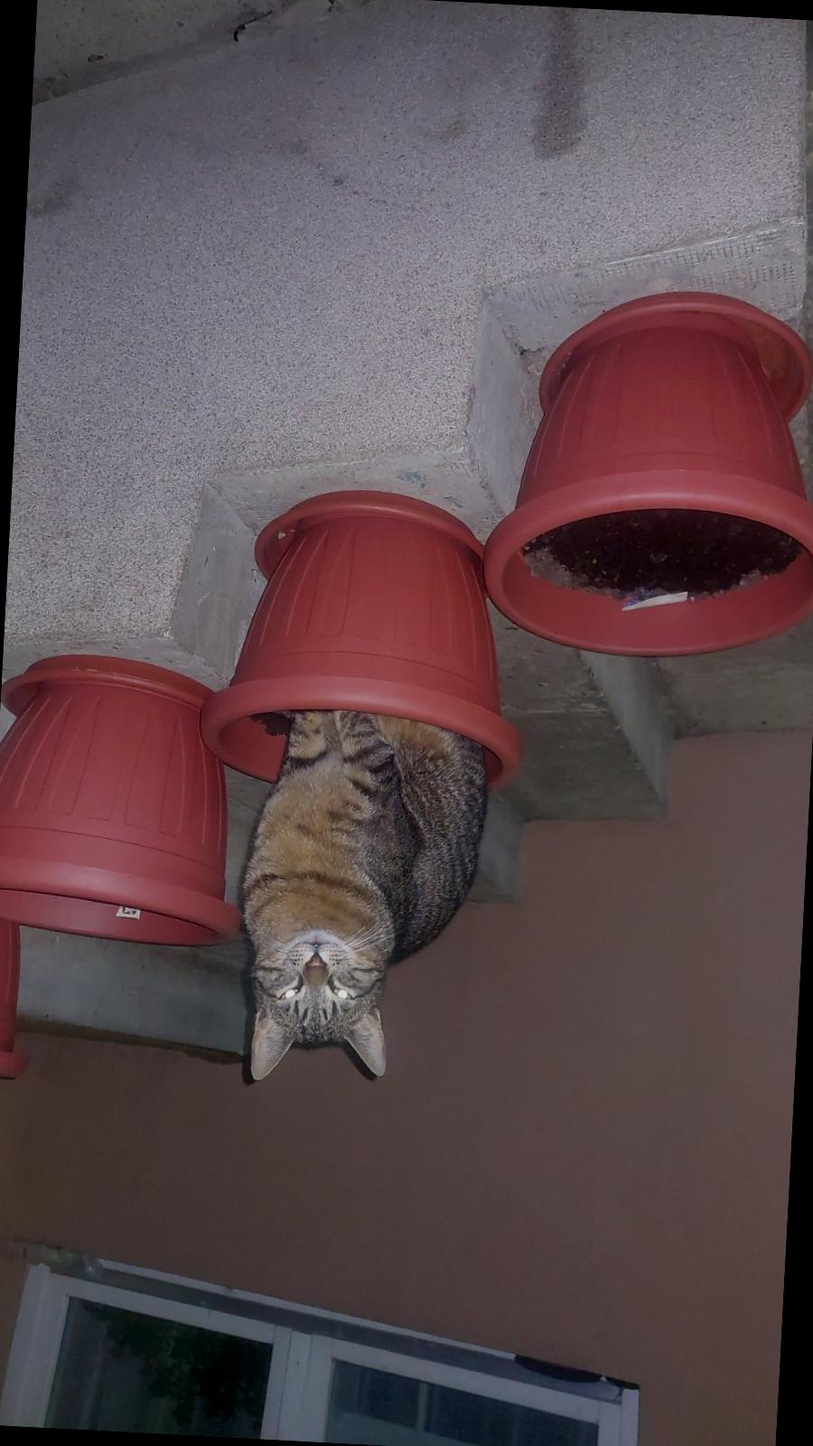macka: (232, 689, 495, 1094)
